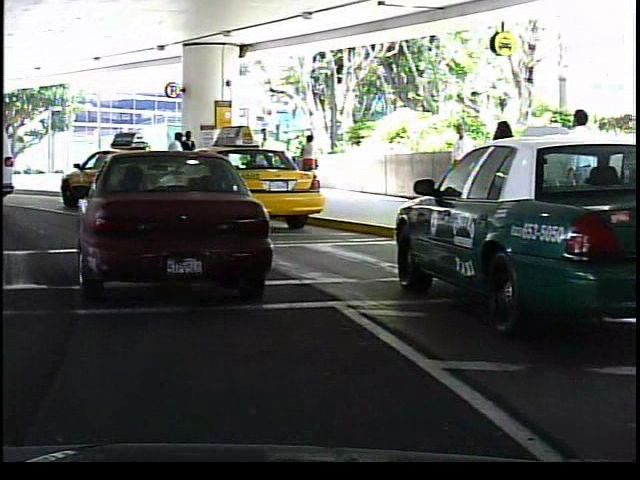person: (484, 109, 533, 244), (556, 100, 600, 240), (445, 116, 479, 213), (252, 123, 278, 191), (295, 131, 321, 190), (165, 131, 188, 192), (180, 128, 200, 191)
